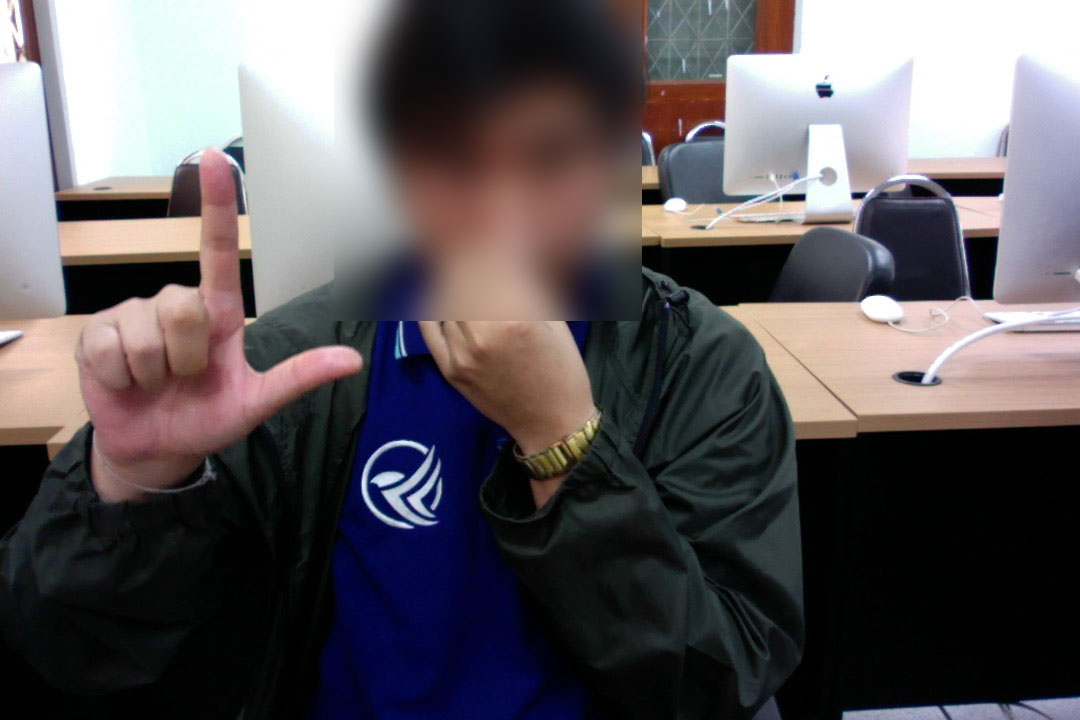lor: (52, 150, 387, 479)
